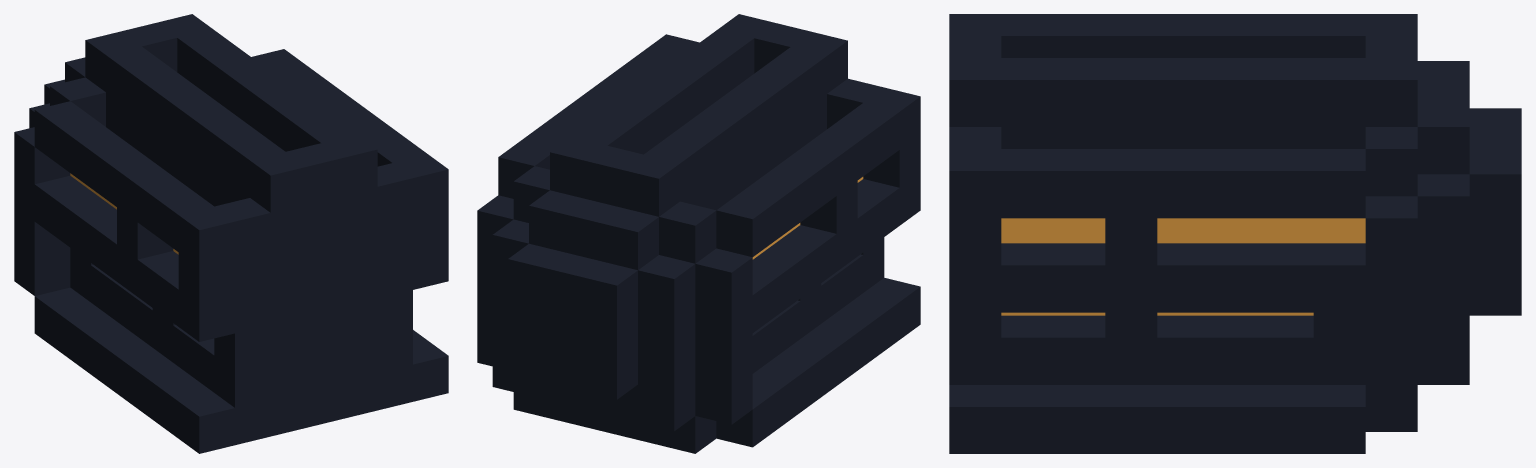
The model's file is BackSmall1.obj.
The picture shows the model from 3 angles, left to right: view 1: azimuth 30°, elevation 25°; view 2: azimuth 150°, elevation 25°; view 3: azimuth 270°, elevation 25°; orthographic projection. The views are drawn at different scales.
Size of the model in its own units: 7 by 7 by 11.
Materials: 1 (1 with a texture image).
